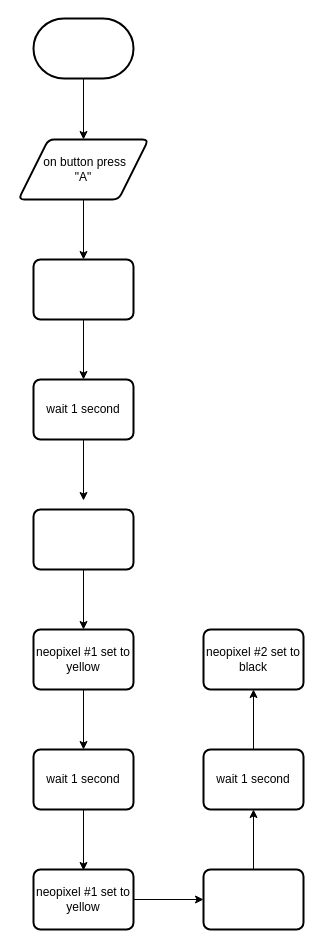
Some shapes in this 321 by 947 pixel diagram are drawn without their labels. The shapes that lost their labels are listed below. From the top down, each one's box as (x1, y1, x2, y2) in pixels, then its label:
(32, 17, 134, 79): Start
(32, 258, 134, 320): neopixel #0 set to green
(32, 508, 134, 570): neopixel #0 set to black
(202, 868, 304, 930): neopixel #2 set to red
